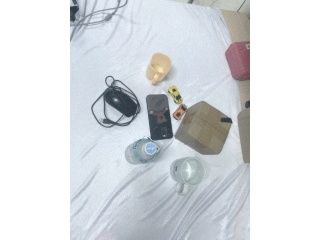bottle: (124, 138, 159, 165)
box: (175, 100, 232, 155)
cup: (170, 155, 205, 188), (146, 52, 172, 85)
mouse: (103, 85, 140, 120)
phone: (147, 94, 172, 139)
toy_car: (168, 85, 183, 104), (173, 105, 187, 121)
